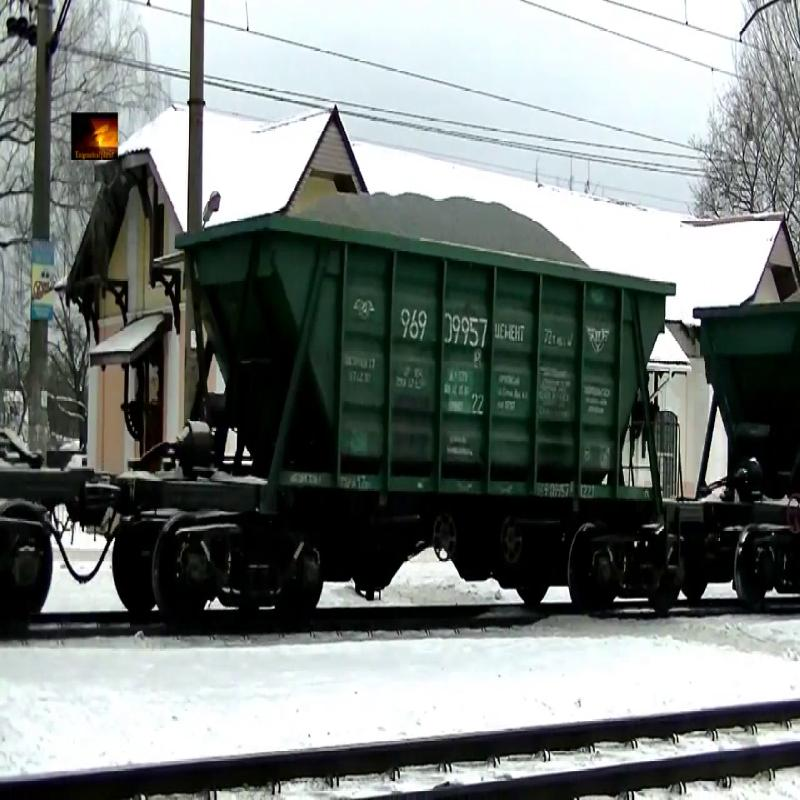train: (171, 182, 690, 618)
